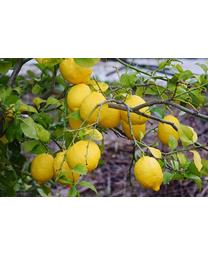lemon: (67, 139, 101, 172), (134, 156, 163, 191), (80, 93, 108, 126), (122, 95, 152, 124), (30, 152, 57, 182), (68, 83, 90, 109), (161, 117, 179, 147)
